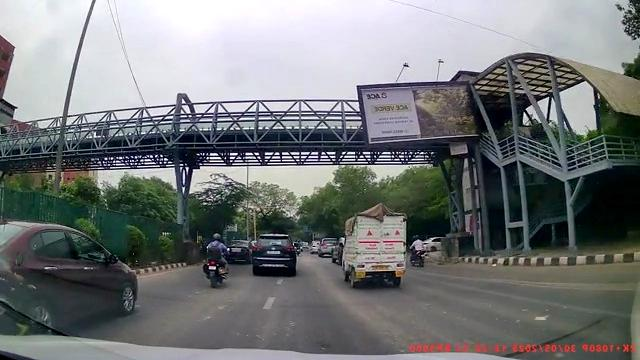motorcycle_with_helmet: (202, 232, 230, 288)
